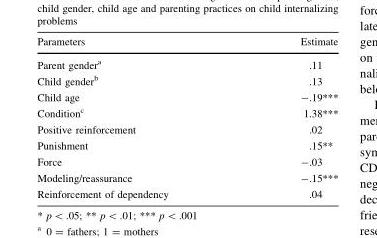table: (36, 36, 337, 199)
table column: (36, 36, 233, 199), (233, 36, 337, 199)
table column header: (36, 36, 337, 52)
table row: (36, 52, 337, 72), (36, 72, 337, 89), (36, 104, 337, 121), (36, 153, 337, 170), (36, 36, 337, 52), (36, 121, 337, 137), (36, 137, 337, 153), (36, 170, 337, 186), (36, 89, 337, 104), (36, 186, 337, 199)
